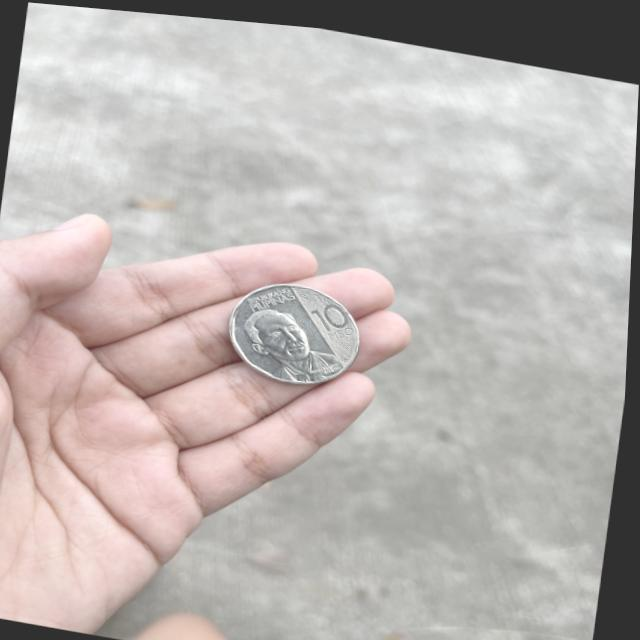10_New_Front: (302, 288, 368, 343)
